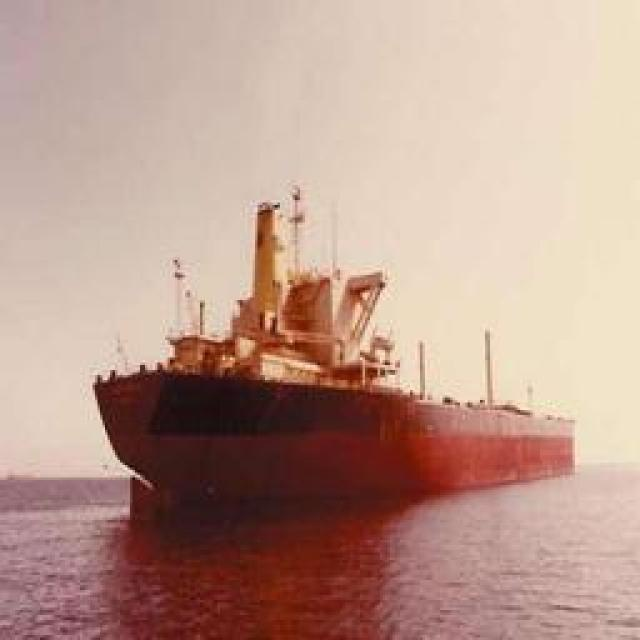ship2: (92, 178, 576, 511)
